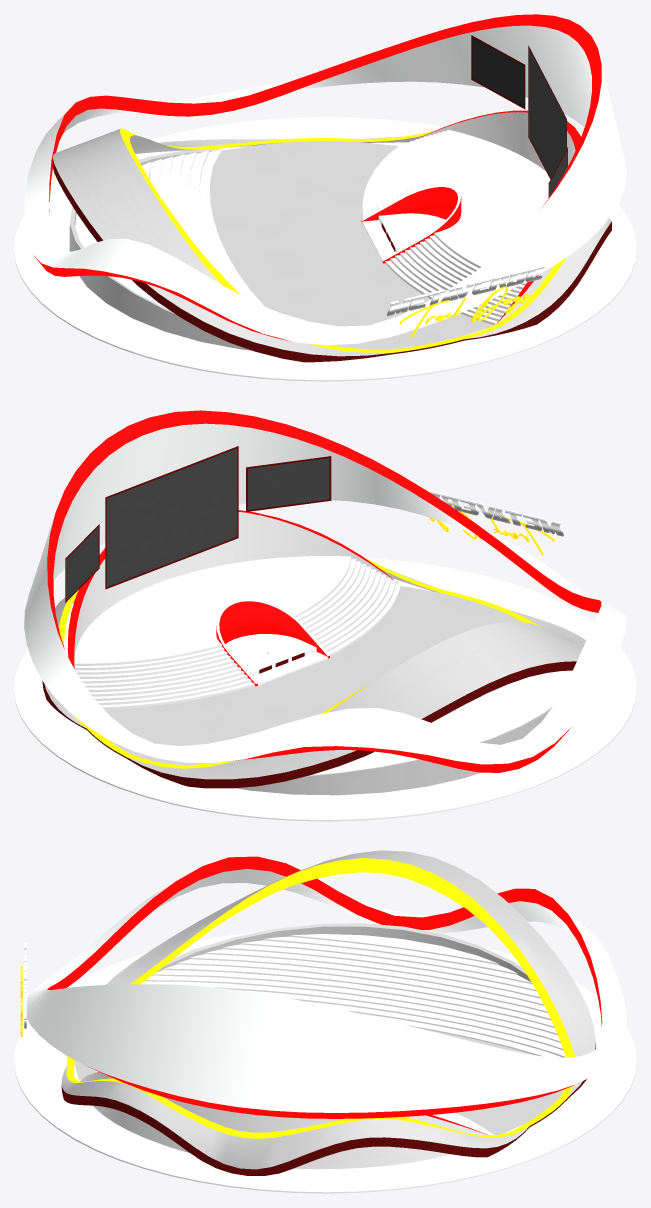
3 renders of one model, top to bottom at view 1: azimuth 30°, elevation 25°; view 2: azimuth 150°, elevation 25°; view 3: azimuth 270°, elevation 25°, orthographic.
Visible parts, largest first — view 1: floatingWalls, floor.001, steps, plate_1st, screen.003, screen.002, floatingText.001, floatingText; view 2: floatingWalls, steps, floor.001, screen.003, plate_1st, screen.001, screen.002, floatingText.001; view 3: floatingWalls, steps, floor.001.
Boxes of the visible parts, x1=… form: floatingWalls: x1=24, y1=14, x2=626, y2=362; floor.001: x1=14, y1=117, x2=636, y2=381; steps: x1=69, y1=110, x2=581, y2=350; plate_1st: x1=361, y1=185, x2=461, y2=263; screen.003: x1=528, y1=45, x2=566, y2=179; screen.002: x1=471, y1=35, x2=525, y2=109; floatingText.001: x1=387, y1=265, x2=544, y2=316; floatingText: x1=399, y1=286, x2=530, y2=337; floatingWalls: x1=24, y1=410, x2=626, y2=788; steps: x1=67, y1=510, x2=572, y2=795; floor.001: x1=14, y1=558, x2=636, y2=821; screen.003: x1=105, y1=446, x2=238, y2=589; plate_1st: x1=216, y1=598, x2=329, y2=686; screen.001: x1=246, y1=456, x2=331, y2=511; screen.002: x1=65, y1=524, x2=99, y2=602; floatingText.001: x1=426, y1=490, x2=563, y2=536; floatingWalls: x1=24, y1=850, x2=626, y2=1175; steps: x1=80, y1=923, x2=565, y2=1169; floor.001: x1=14, y1=932, x2=636, y2=1193.
Size of what is drawn, in the model's own units: 62 by 20.76 by 61.99.
Materials: 12 (10 with a texture image).
